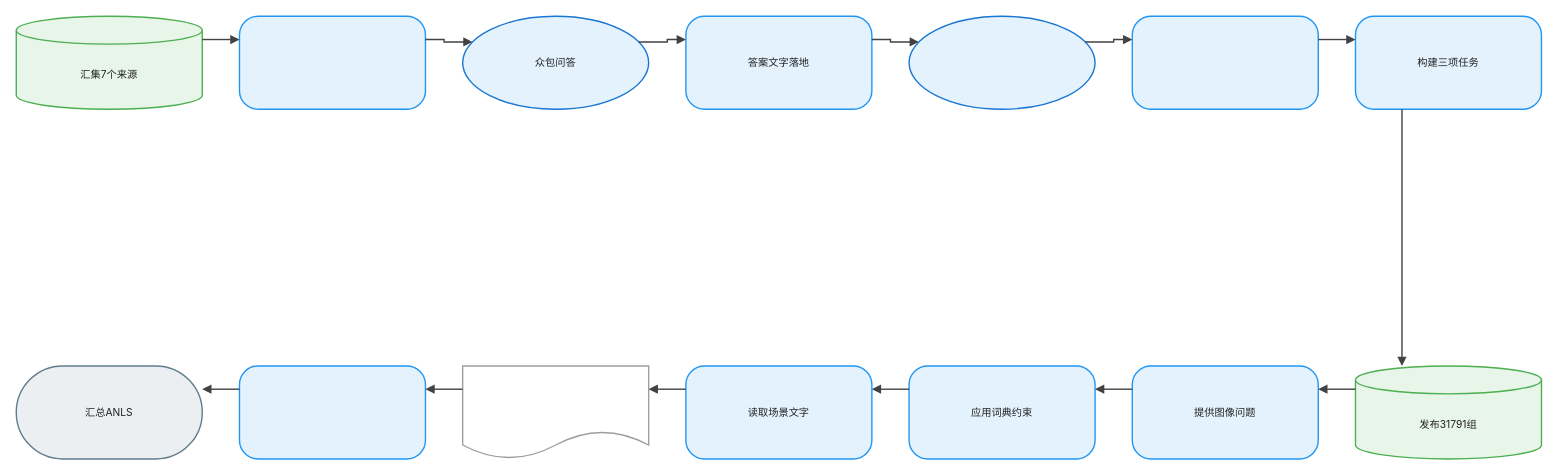
This 1559x476 diagram has some shape labels left out. The shapes that lost their labels are listed below. From the top down, each one's box as (x1, y1, x2, y2) in pixels, then its label:
(238, 15, 426, 110): 筛选含字图像
(908, 15, 1095, 110): 验证问答
(1131, 15, 1319, 110): 划分数据
(238, 365, 426, 459): 计算编辑相似度
(462, 365, 649, 459): 生成答案
